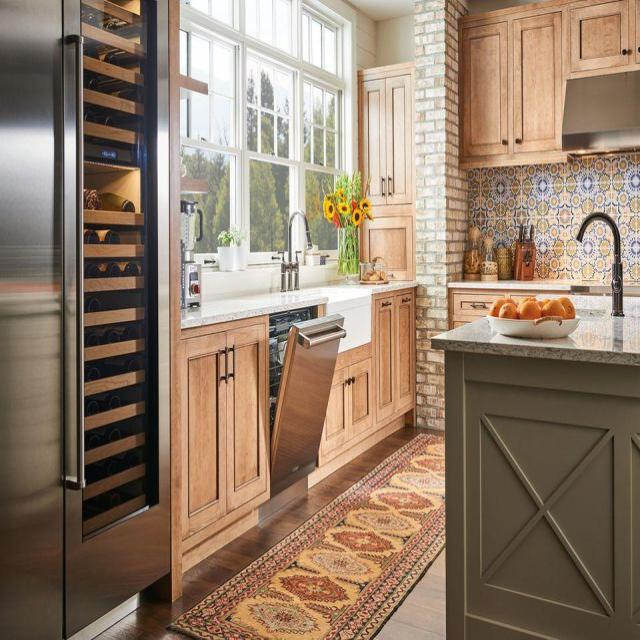dishwasher: (265, 300, 348, 499)
